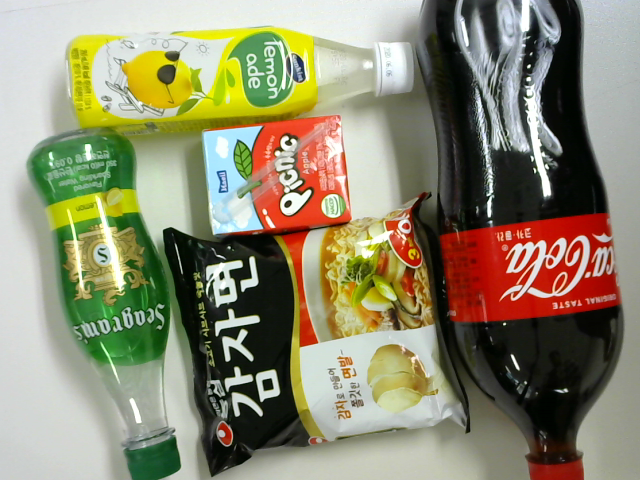Coca_Cola_1.5L: (421, 2, 624, 480)
Picnic_Apple: (203, 116, 355, 236)
Potato: (163, 200, 475, 474)
Seagram_Lemon_Carbonated_Water: (27, 128, 181, 480)
Sunkist_Lemonaid_Pet: (61, 30, 423, 134)
